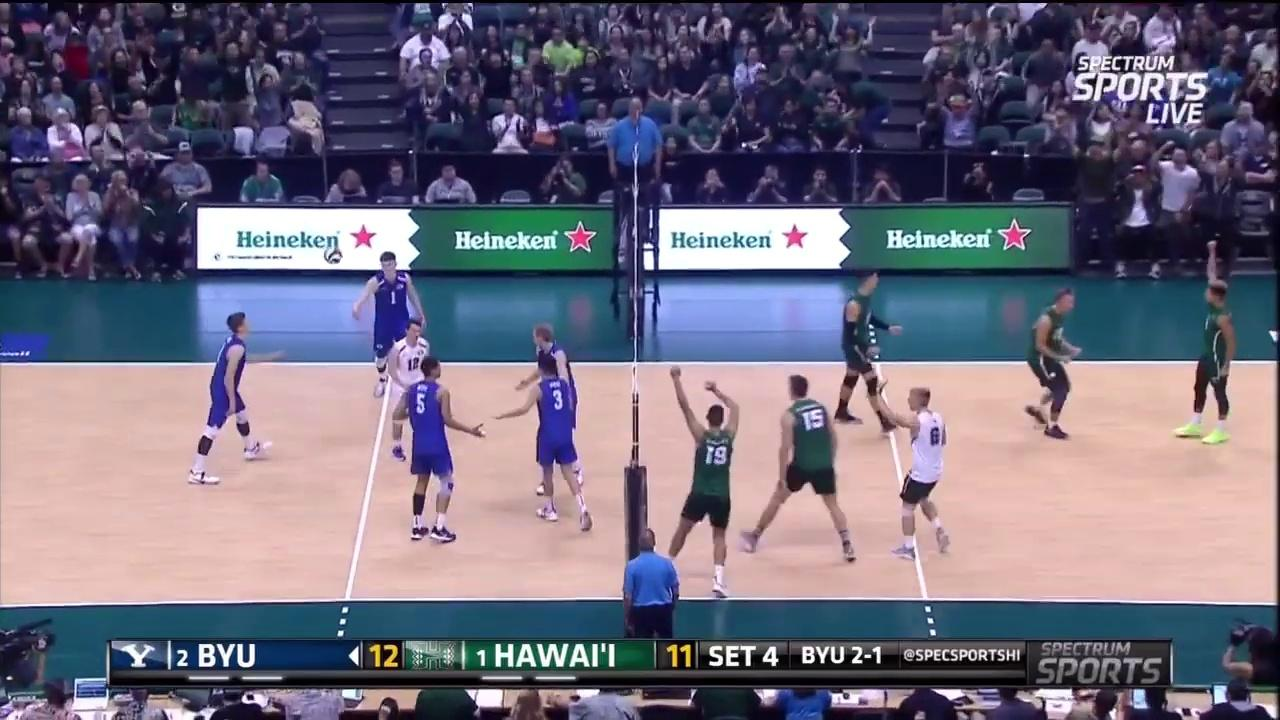player: (739, 369, 861, 566), (653, 369, 739, 603), (391, 348, 487, 547), (505, 356, 596, 530), (190, 310, 273, 490), (351, 241, 429, 390), (888, 386, 955, 558), (833, 277, 903, 428), (1179, 287, 1237, 439), (384, 321, 440, 461), (1032, 291, 1085, 435), (520, 319, 584, 425)
refree: (604, 88, 666, 246), (614, 523, 685, 639)
